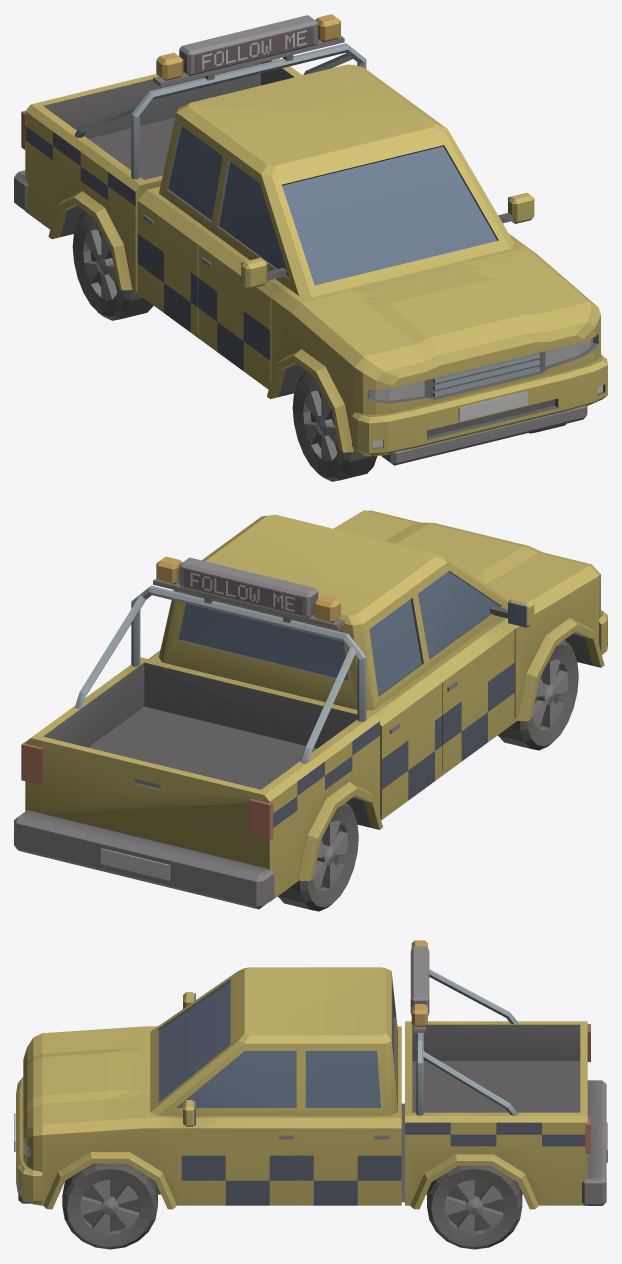
The model's file is followme.glb.
The picture shows the model from 3 angles, top to bottom: view 1: azimuth 30°, elevation 25°; view 2: azimuth 150°, elevation 25°; view 3: azimuth 270°, elevation 25°; orthographic projection. The views are drawn at different scales.
Parts seen in each view (by area): view 1: followme; view 2: followme; view 3: followme.
Part boxes in pixels (x1,y1,x2,y2): followme: (14,14,607,481); followme: (14,510,607,911); followme: (14,940,607,1249).
Size of the model in its own units: 2.2 by 2.04 by 4.73.
